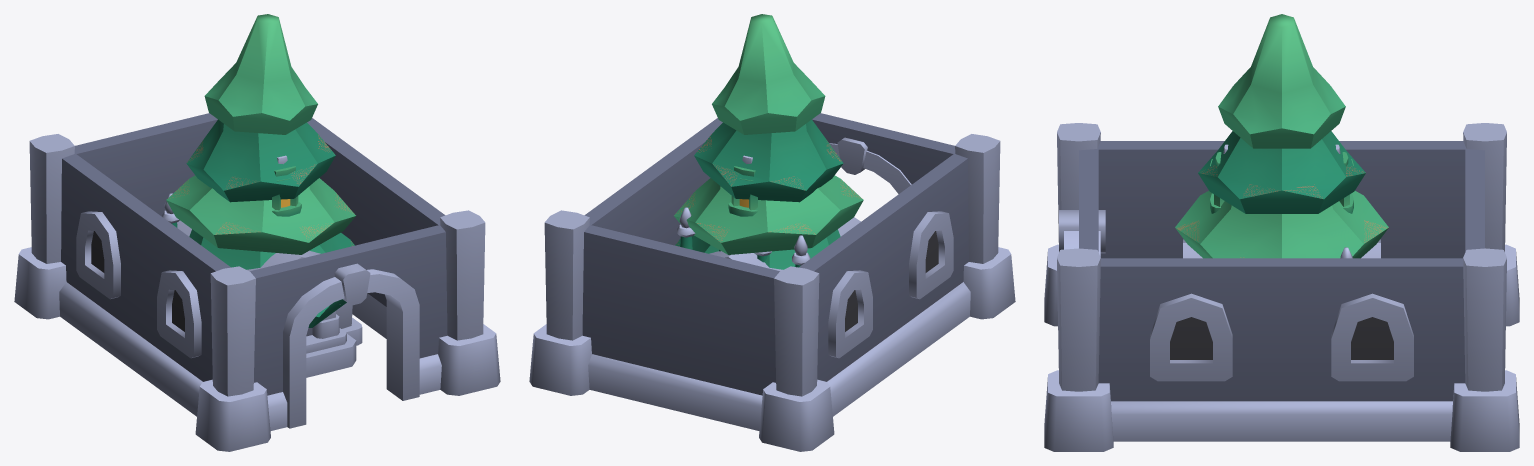
The model's file is graveyard.glb.
3 renders of one model, left to right at view 1: azimuth 30°, elevation 25°; view 2: azimuth 150°, elevation 25°; view 3: azimuth 270°, elevation 25°, orthographic. The views are drawn at different scales.
Visible parts, largest first — view 1: crypt-large~0, pine-crooked~0, crypt~0, altar-stone~0, lightpost-double~0; view 2: crypt-large~0, pine-crooked~0, lightpost-double~0, iron-fence-border~0, crypt~0; view 3: crypt-large~0, pine-crooked~0, lightpost-double~0.
Part boxes in pixels (x1,y1,x2,y2): crypt-large~0: (14,113,500,451); pine-crooked~0: (166,14,355,327); crypt~0: (177,220,356,377); altar-stone~0: (336,302,362,345); lightpost-double~0: (272,155,301,216); crypt-large~0: (529,113,1015,451); pine-crooked~0: (674,14,863,269); lightpost-double~0: (728,155,757,216); iron-fence-border~0: (677,207,807,267); crypt~0: (709,217,860,271); crypt-large~0: (1044,123,1519,451); pine-crooked~0: (1175,14,1388,258); lightpost-double~0: (1210,144,1353,213).
Size of the model in its own units: 1.85 by 2.11 by 2.4.
1 material, 1 textured.
